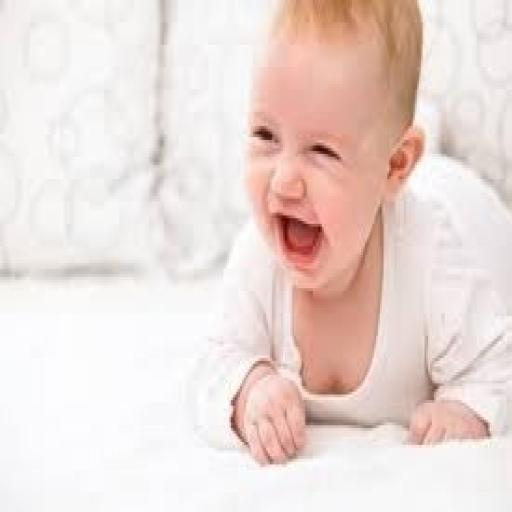laughing: (188, 0, 508, 467)
